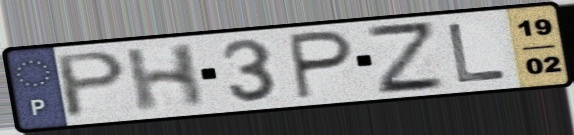3: (220, 36, 284, 105)
H: (122, 41, 208, 115)
L: (443, 21, 511, 86)
P: (53, 48, 130, 121), (285, 28, 357, 102)
Z: (362, 21, 451, 97)
